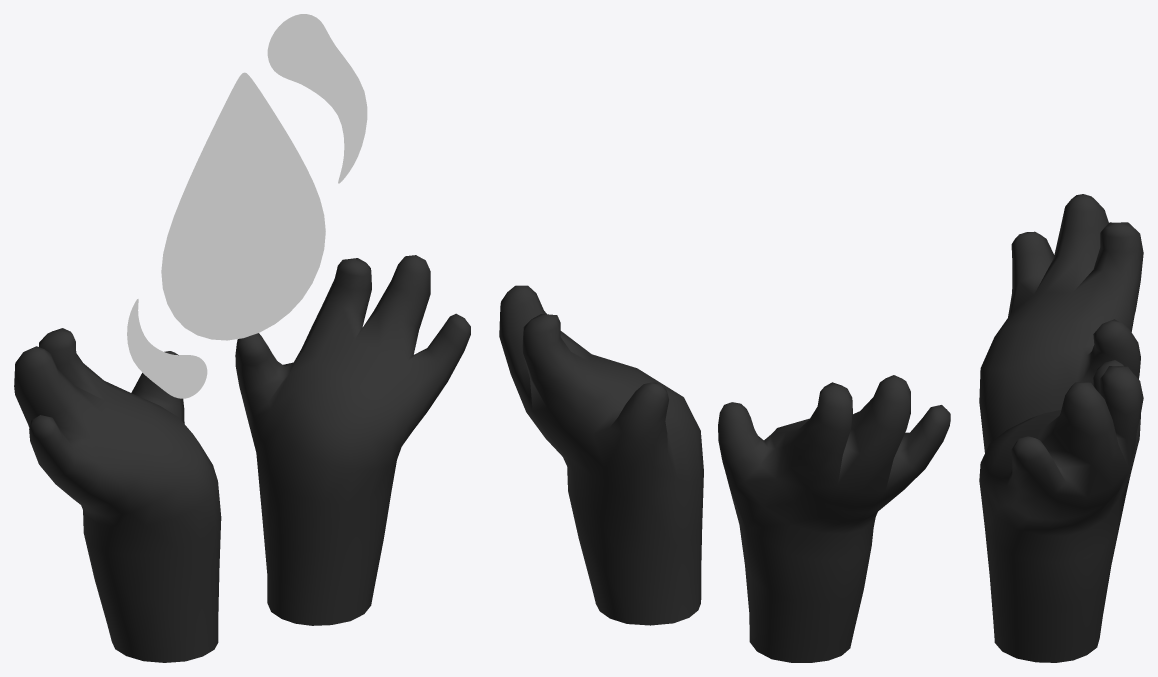
Rendered from water-element.glb.
The picture shows the model from 3 angles, left to right: view 1: azimuth 30°, elevation 25°; view 2: azimuth 150°, elevation 25°; view 3: azimuth 270°, elevation 25°; orthographic projection. The views are drawn at different scales.
Visible parts, largest first — view 1: Water element icon; view 2: Water element icon; view 3: Water element icon.
Boxes of the visible parts, bbox=[...] form: Water element icon: bbox=[14, 14, 470, 662]; Water element icon: bbox=[499, 285, 950, 662]; Water element icon: bbox=[979, 194, 1143, 662].
Bounding box in the file's own units: 2.05 × 2.69 × 0.6572.
2 materials, 2 textured.
